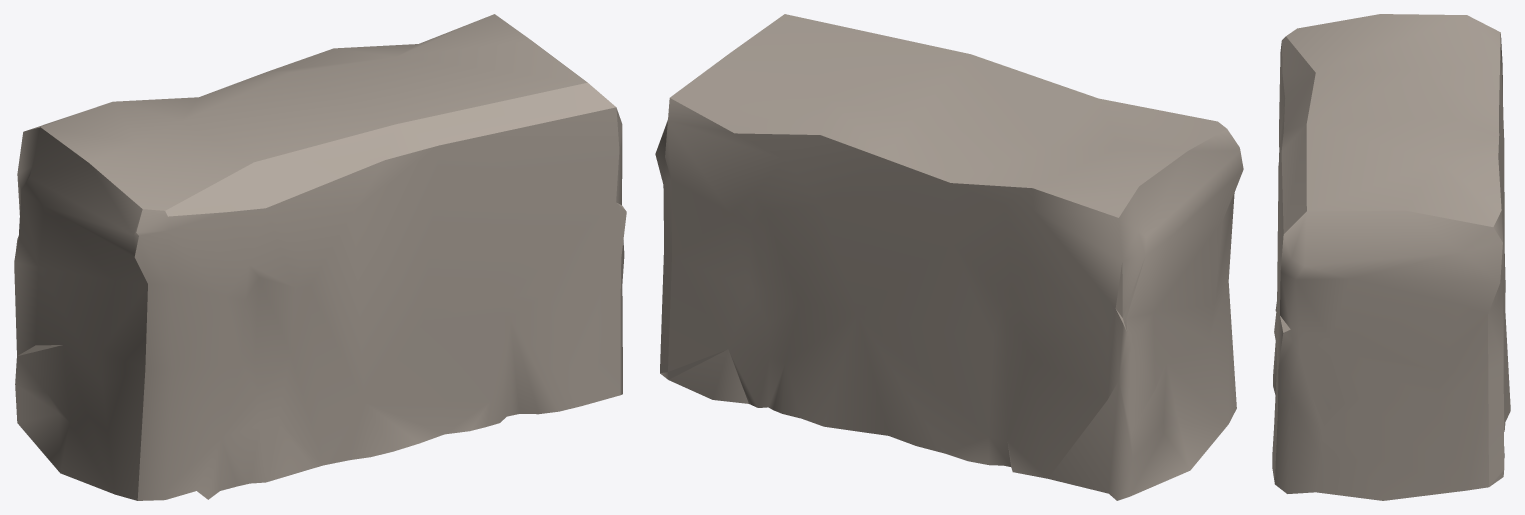
File: BG_rock_Wall_0102.fbx
3 renders of one model, left to right at view 1: azimuth 30°, elevation 25°; view 2: azimuth 150°, elevation 25°; view 3: azimuth 270°, elevation 25°, orthographic. The views are drawn at different scales.
Parts seen in each view (by area): view 1: BG_rock_Wall_02; view 2: BG_rock_Wall_02; view 3: BG_rock_Wall_02.
Boxes of the visible parts, box(x1,y1,x2,y2) form: BG_rock_Wall_02: box(14, 14, 626, 500); BG_rock_Wall_02: box(655, 14, 1243, 500); BG_rock_Wall_02: box(1272, 14, 1510, 500).
Bounding box in the file's own units: 40.02 × 24.45 × 18.73.
Materials: 1 (1 with a texture image).
